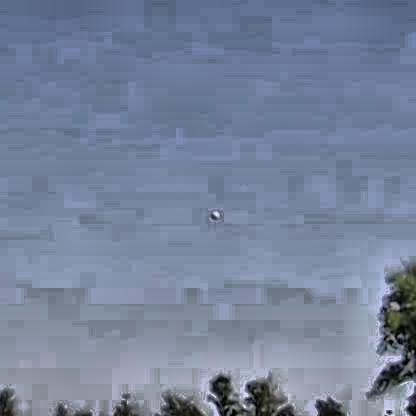golfball: (207, 207, 217, 217)
